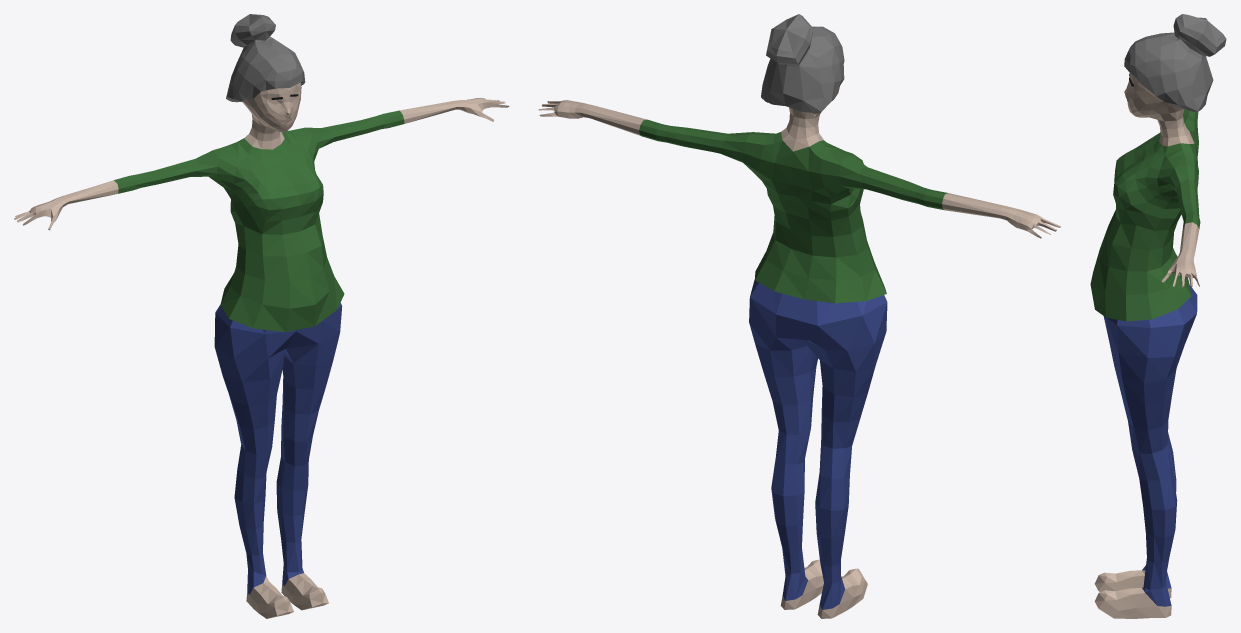
Rendered from woman_2.fbx.
3 views of the same model, side by side, from view 1: azimuth 30°, elevation 25°; view 2: azimuth 150°, elevation 25°; view 3: azimuth 270°, elevation 25° (orthographic). The views are drawn at different scales.
Visible parts, largest first — view 1: woman_2; view 2: woman_2; view 3: woman_2.
Part boxes in pixels (x1,y1,x2,y2): woman_2: (14, 14, 509, 618); woman_2: (538, 14, 1061, 618); woman_2: (1090, 14, 1226, 618).
Bounding box in the file's own units: 155 × 175 × 36.39.
